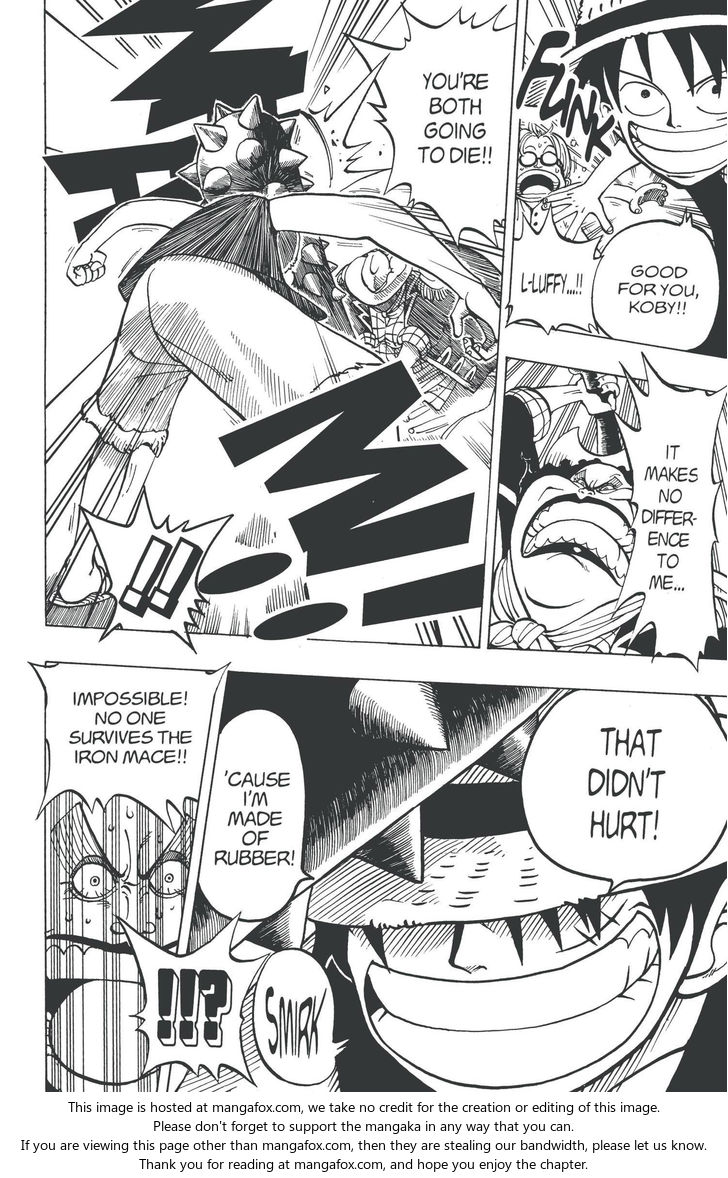bubble: (519, 688, 728, 893), (344, 2, 515, 246), (612, 352, 728, 672), (27, 662, 233, 831), (117, 914, 268, 1085), (198, 706, 314, 919), (589, 210, 723, 351), (252, 949, 354, 1087), (508, 205, 604, 333)
